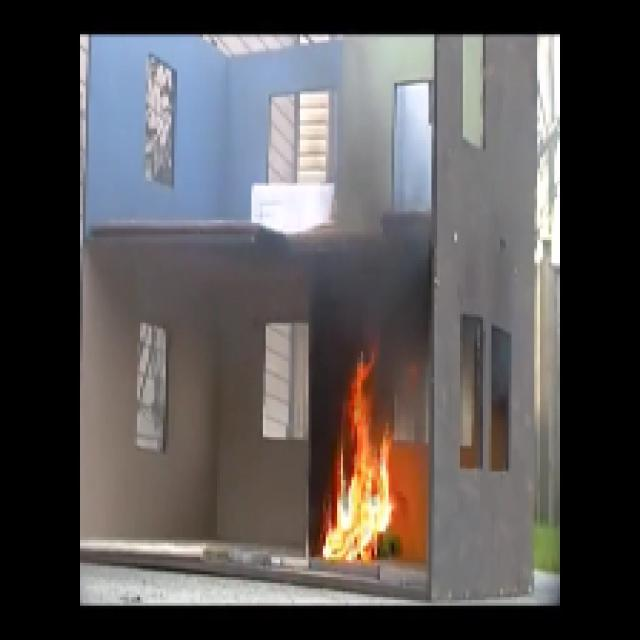fire: (336, 376, 392, 564)
smoke: (338, 250, 418, 344)
